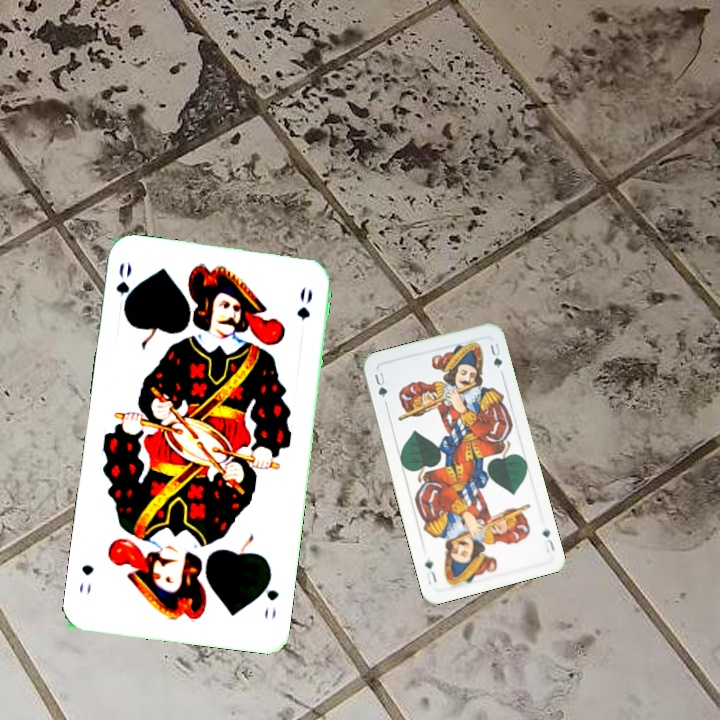GO: (112, 258, 136, 318), (258, 568, 282, 621)
GU: (370, 368, 390, 400), (538, 524, 557, 555)
